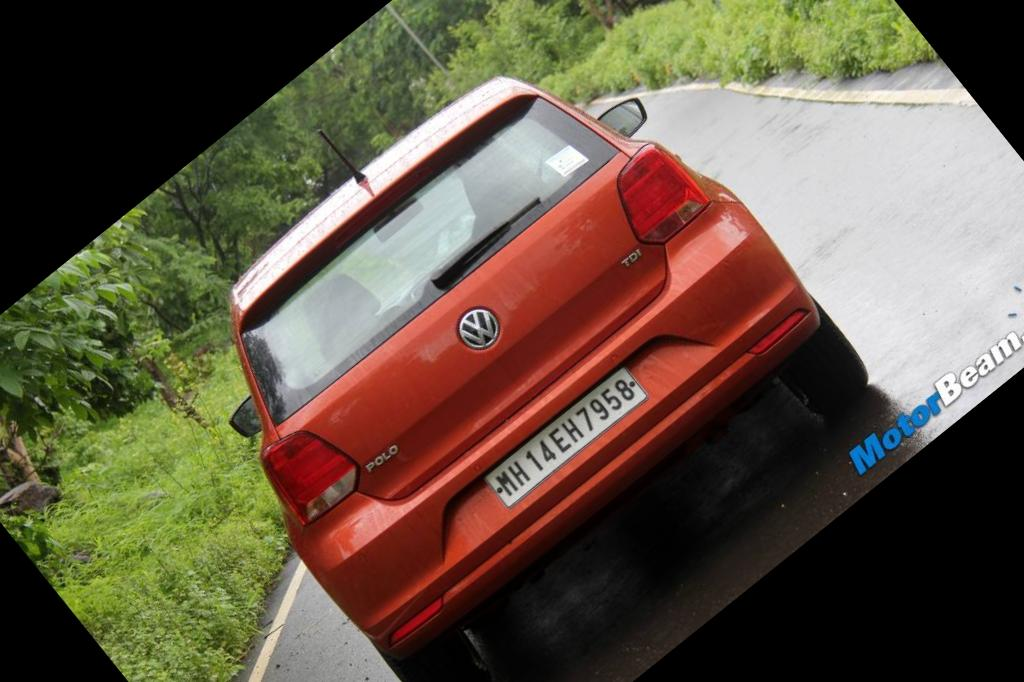plate: (472, 349, 667, 523)
